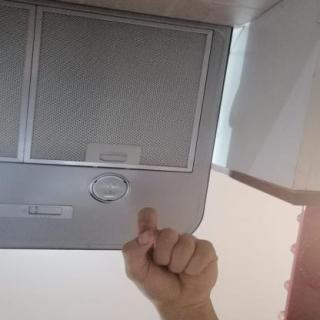FAA: (110, 201, 234, 316)
